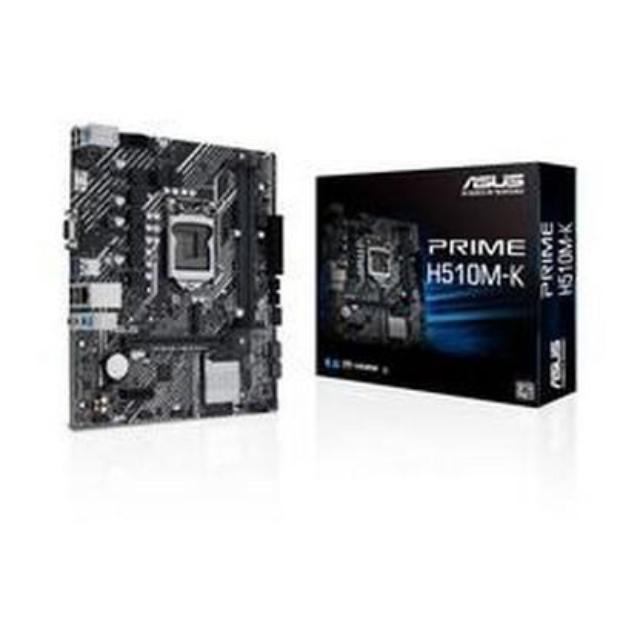Mainboard: (56, 120, 287, 429)
